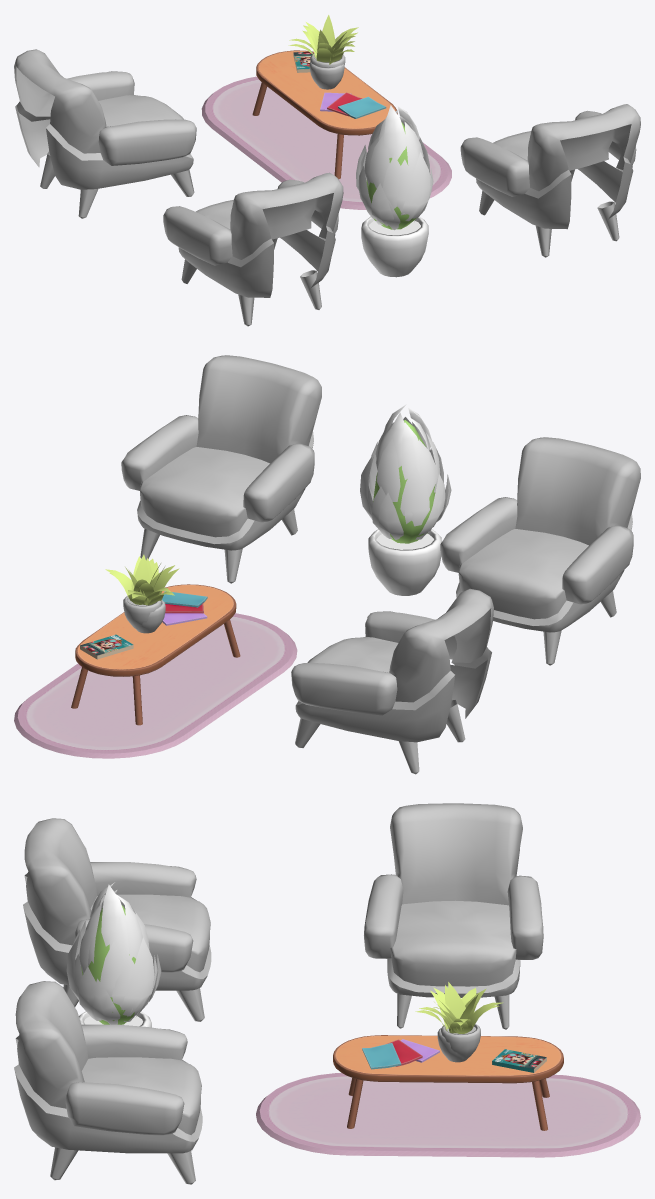
File: Table_Setup.fbx
3 views of the same model, one above another, from view 1: azimuth 30°, elevation 25°; view 2: azimuth 150°, elevation 25°; view 3: azimuth 270°, elevation 25° (orthographic). The views are drawn at different scales.
Parts seen in each view (by area): view 1: Table, Chair1, Chair, Chair_, Flowervage; view 2: Table, Chair, Chair_, Chair1, Flowervage; view 3: Table, Chair1, Chair, Chair_, Flowervage.
Boxes of the visible parts, bbox=[...] form: Table: bbox=[201, 15, 451, 209]; Chair1: bbox=[14, 49, 196, 218]; Chair: bbox=[460, 104, 640, 257]; Chair_: bbox=[163, 172, 343, 326]; Flowervage: bbox=[356, 105, 433, 277]; Table: bbox=[14, 554, 297, 758]; Chair: bbox=[121, 355, 321, 583]; Chair_: bbox=[440, 437, 640, 665]; Chair1: bbox=[291, 588, 493, 774]; Flowervage: bbox=[360, 404, 451, 595]; Table: bbox=[256, 982, 640, 1157]; Chair1: bbox=[364, 803, 543, 1029]; Chair: bbox=[14, 981, 202, 1184]; Chair_: bbox=[23, 818, 211, 1021]; Flowervage: bbox=[66, 882, 161, 1027].
Size of the model in its own units: 905 by 322 by 974.
